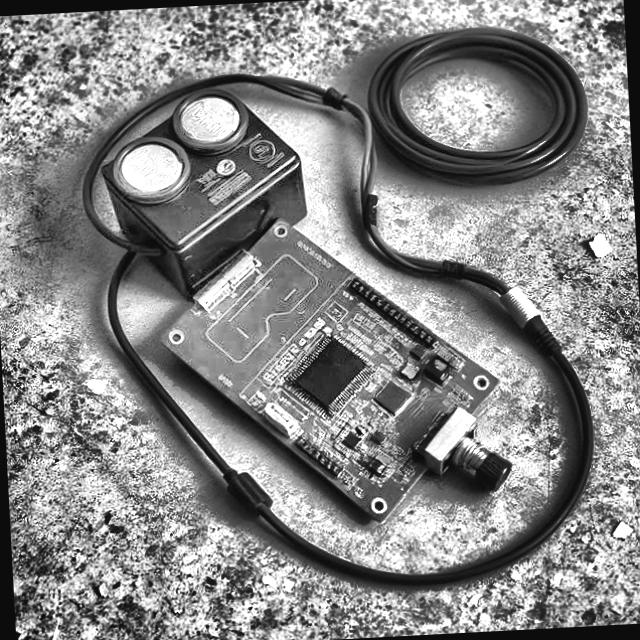Battery: (98, 80, 311, 300)
Cable: (365, 13, 599, 190), (163, 518, 522, 610), (515, 274, 598, 550)
PCB: (149, 202, 524, 545)
